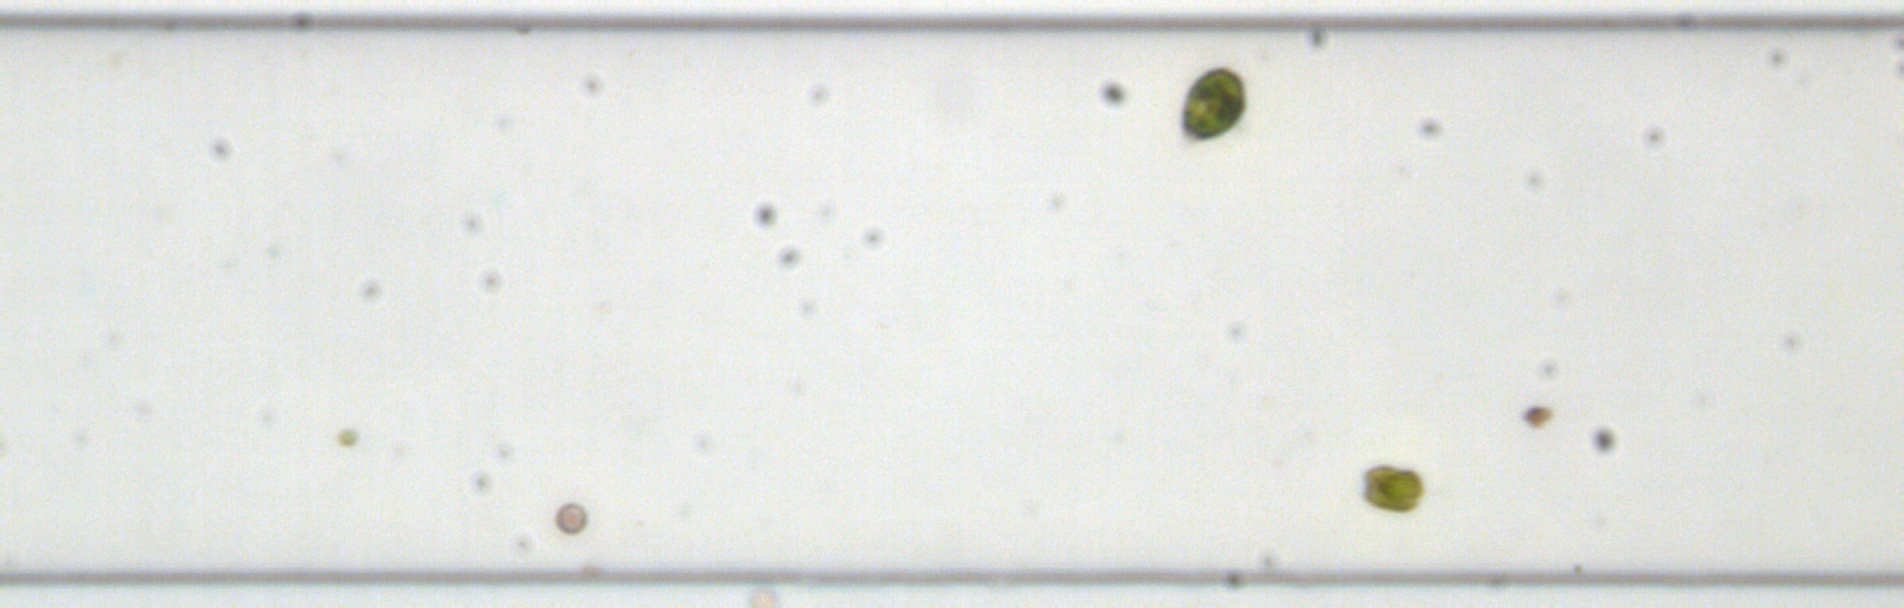Chlorella: (335, 426, 359, 448)
Platymonas: (1175, 64, 1249, 143), (1360, 462, 1424, 515)
Porphyridium: (552, 501, 590, 536), (1518, 402, 1554, 430)
